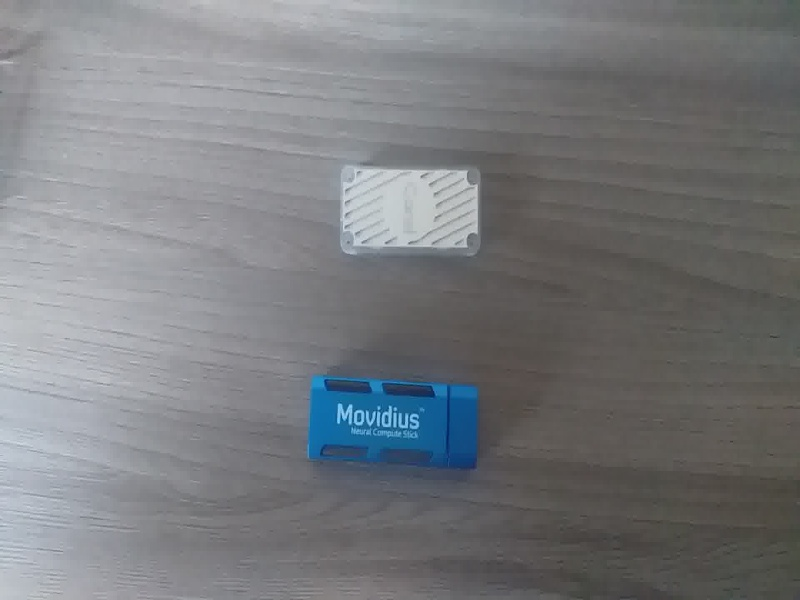coral: (333, 157, 496, 267)
movidius: (302, 366, 490, 477)
